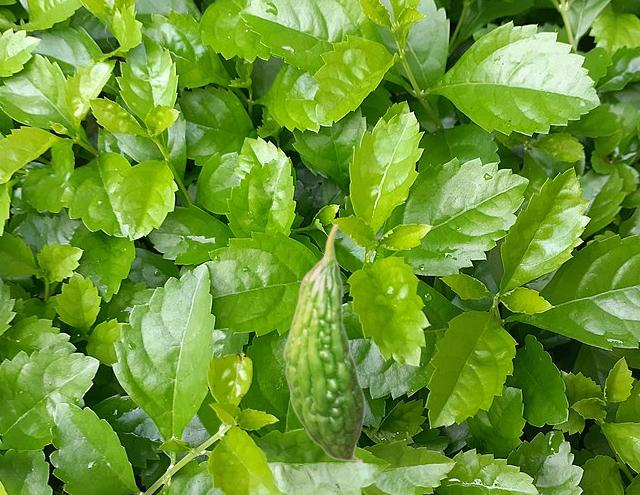ampalaya: (282, 222, 365, 466)
